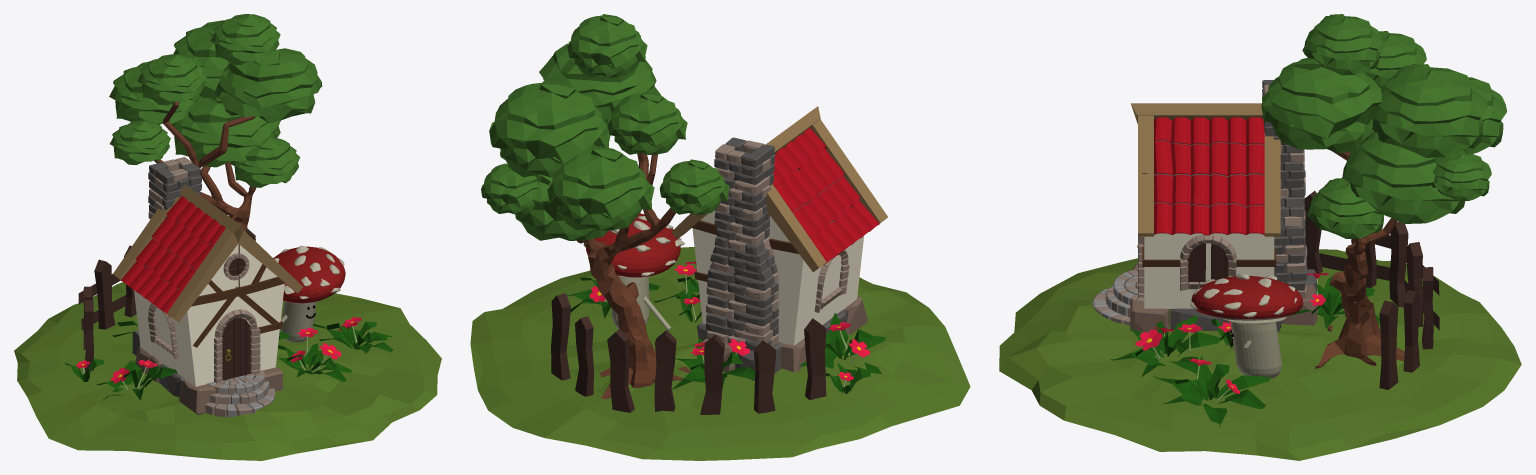
The model's file is ohneHintergrundHaus+Pilz.glb.
3 views of the same model, side by side, from view 1: azimuth 30°, elevation 25°; view 2: azimuth 150°, elevation 25°; view 3: azimuth 270°, elevation 25° (orthographic). The views are drawn at different scales.
Visible parts, largest first — view 1: Sphere001, Cube_1, Roof, Icosphere001, roof_Frame, Icosphere006, Icosphere, Icosphere008, Trunk, SurfSphere002_1, Icosphere007, Icosphere005 (+20 smaller); view 2: Sphere001, Cube052, Icosphere002, Roof, Icosphere005, Cube_1, Trunk, Cube052_1, roof_Frame, Icosphere, Icosphere008, Icosphere001 (+19 smaller); view 3: Sphere001, Roof, Icosphere001, Icosphere002, Icosphere006, roof_Frame, Cube_1, Trunk, Icosphere008, SurfSphere002_1, Cube052, Icosphere007 (+24 smaller).
Part boxes in pixels (x1,y1,x2,y2): Sphere001: [14, 282, 441, 460]; Cube_1: [134, 244, 284, 386]; Roof: [121, 196, 225, 315]; Icosphere001: [214, 48, 322, 123]; roof_Frame: [113, 184, 302, 322]; Icosphere006: [171, 96, 280, 167]; Icosphere: [137, 54, 207, 105]; Icosphere008: [210, 14, 280, 64]; Trunk: [154, 101, 255, 232]; SurfSphere002_1: [273, 246, 345, 303]; Icosphere007: [230, 137, 300, 187]; Icosphere005: [109, 62, 199, 124]; Sphere001: [470, 247, 970, 460]; Cube052: [706, 137, 778, 350]; Icosphere002: [489, 80, 610, 177]; Roof: [772, 128, 879, 264]; Icosphere005: [547, 146, 654, 230]; Cube_1: [692, 210, 864, 345]; Trunk: [577, 153, 690, 398]; Cube052_1: [706, 140, 778, 347]; roof_Frame: [671, 106, 887, 272]; Icosphere: [607, 91, 687, 154]; Icosphere008: [567, 14, 647, 77]; Icosphere001: [539, 43, 660, 123]; Sphere001: [999, 249, 1521, 460]; Roof: [1154, 117, 1264, 235]; Icosphere001: [1261, 58, 1381, 153]; Icosphere002: [1372, 64, 1487, 157]; Icosphere006: [1342, 132, 1465, 223]; roof_Frame: [1131, 103, 1280, 236]; Cube_1: [1144, 233, 1274, 308]; Trunk: [1315, 150, 1404, 368]; Icosphere008: [1302, 14, 1382, 75]; SurfSphere002_1: [1191, 276, 1303, 319]; Cube052: [1262, 80, 1307, 290]; Icosphere007: [1307, 178, 1383, 238].
Size of the model in its own units: 18.8 by 14.73 by 18.63.
